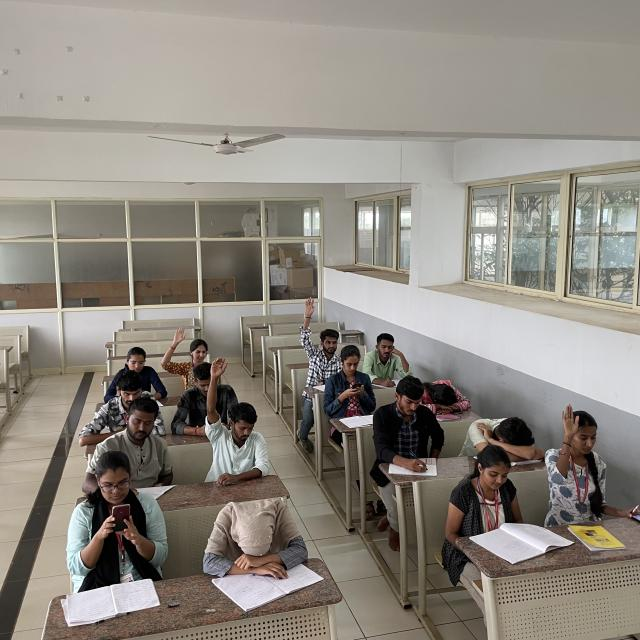Hand Rising: (205, 352, 270, 472), (542, 402, 607, 502), (299, 293, 346, 382), (160, 328, 212, 382)
Reading: (458, 446, 559, 552)
Sleeping: (202, 494, 307, 570), (462, 414, 542, 457), (419, 378, 473, 417)
Using Phone: (70, 448, 168, 570), (325, 346, 376, 412)
Writing: (372, 376, 438, 474), (367, 332, 415, 388)
